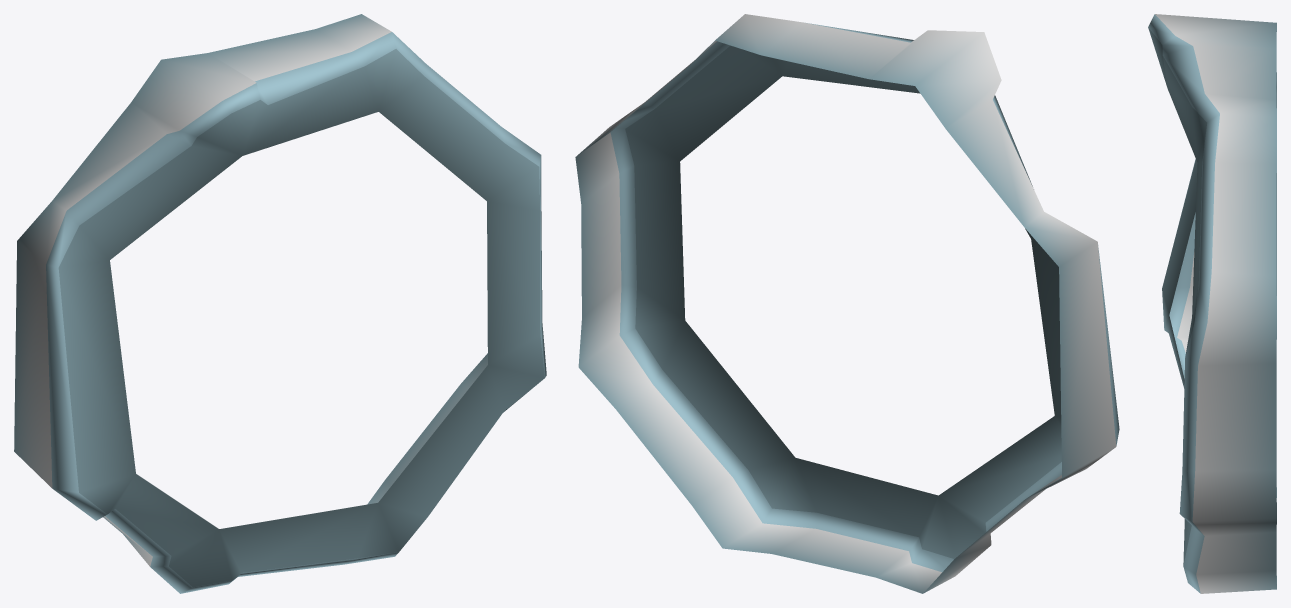
The model's file is LighthouseIceSheetTop.fbx.
3 views of the same model, side by side, from view 1: azimuth 30°, elevation 25°; view 2: azimuth 150°, elevation 25°; view 3: azimuth 270°, elevation 25° (orthographic). The views are drawn at different scales.
Visible parts, largest first — view 1: LighthouseIceSheetTop; view 2: LighthouseIceSheetTop; view 3: LighthouseIceSheetTop.
Part boxes in pixels (x1,y1,x2,y2): LighthouseIceSheetTop: [14, 14, 546, 593]; LighthouseIceSheetTop: [575, 14, 1119, 593]; LighthouseIceSheetTop: [1148, 14, 1276, 593].
Bounding box in the file's own units: 265 × 265 × 63.32.
